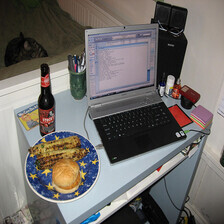laptop: (77, 19, 180, 181)
